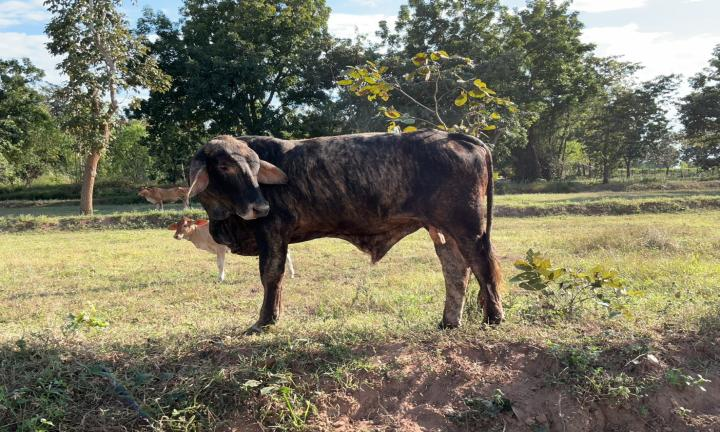Charolais: (189, 129, 503, 333)
